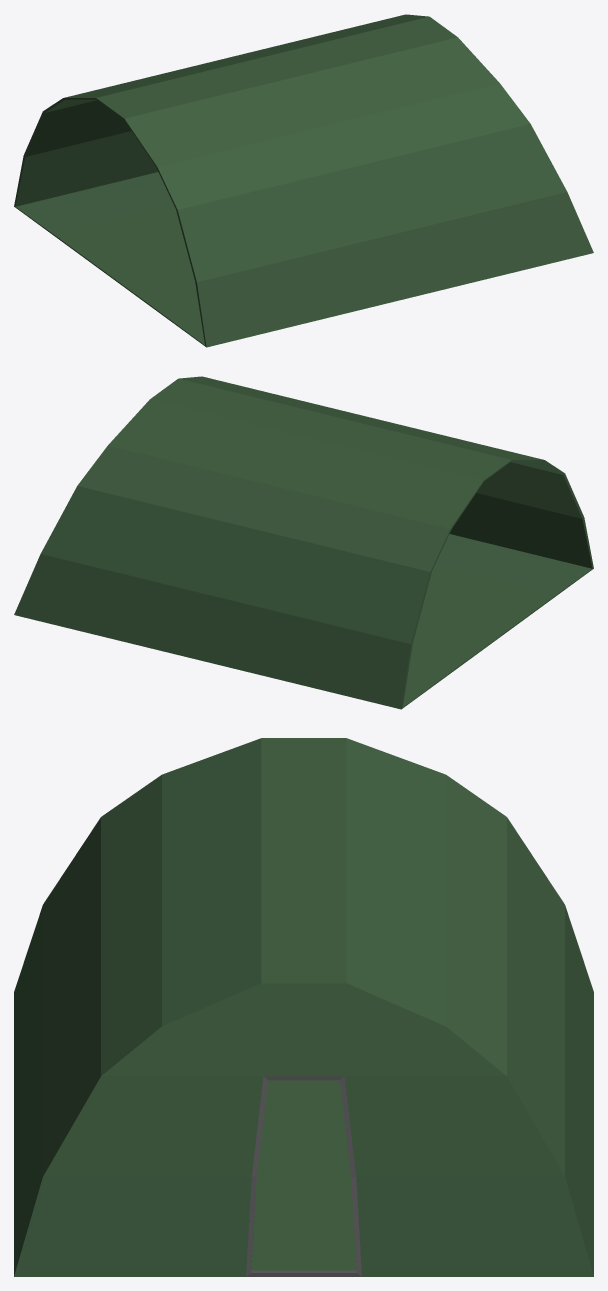
The picture shows the model from 3 angles, top to bottom: view 1: azimuth 30°, elevation 25°; view 2: azimuth 150°, elevation 25°; view 3: azimuth 270°, elevation 25°; orthographic projection. The views are drawn at different scales.
Visible parts, largest first — view 1: Cube; view 2: Cube; view 3: Cube.
Boxes of the visible parts, x1=… form: Cube: x1=14, y1=14, x2=593, y2=347; Cube: x1=14, y1=376, x2=593, y2=709; Cube: x1=14, y1=738, x2=593, y2=1276.
Bounding box in the file's own units: 697 × 290 × 600.
